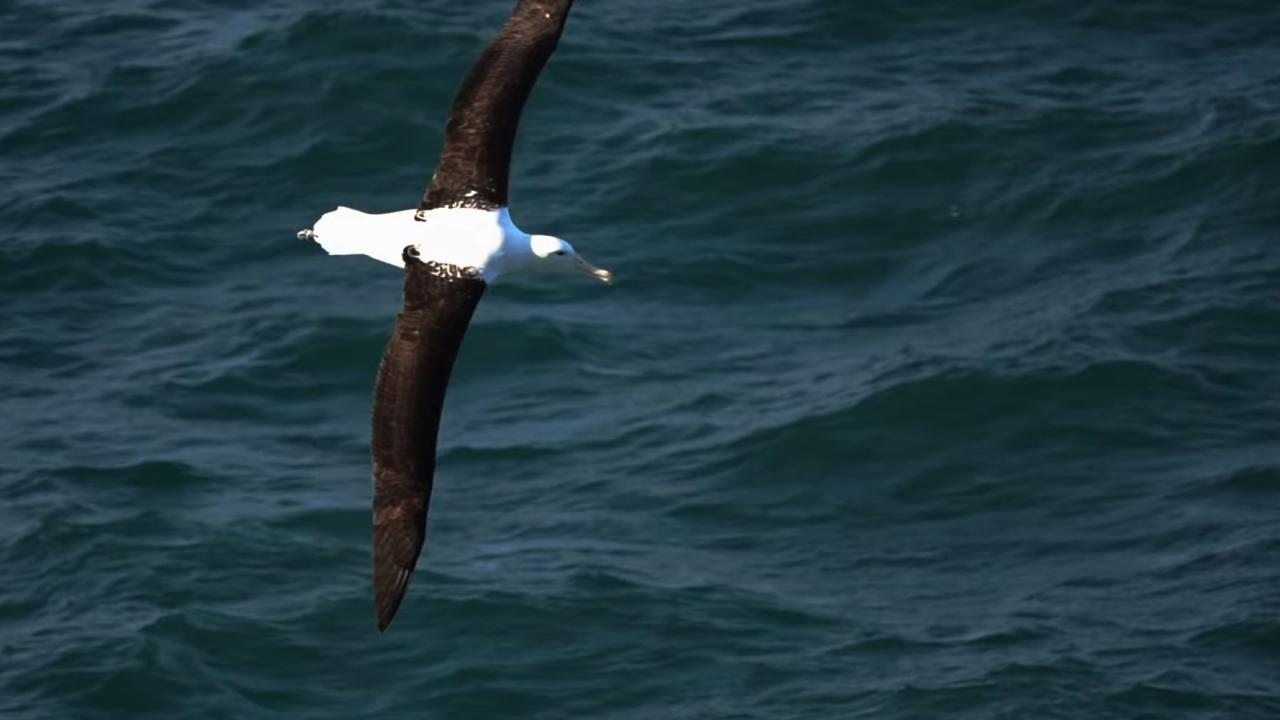Bird: (289, 0, 623, 642)
